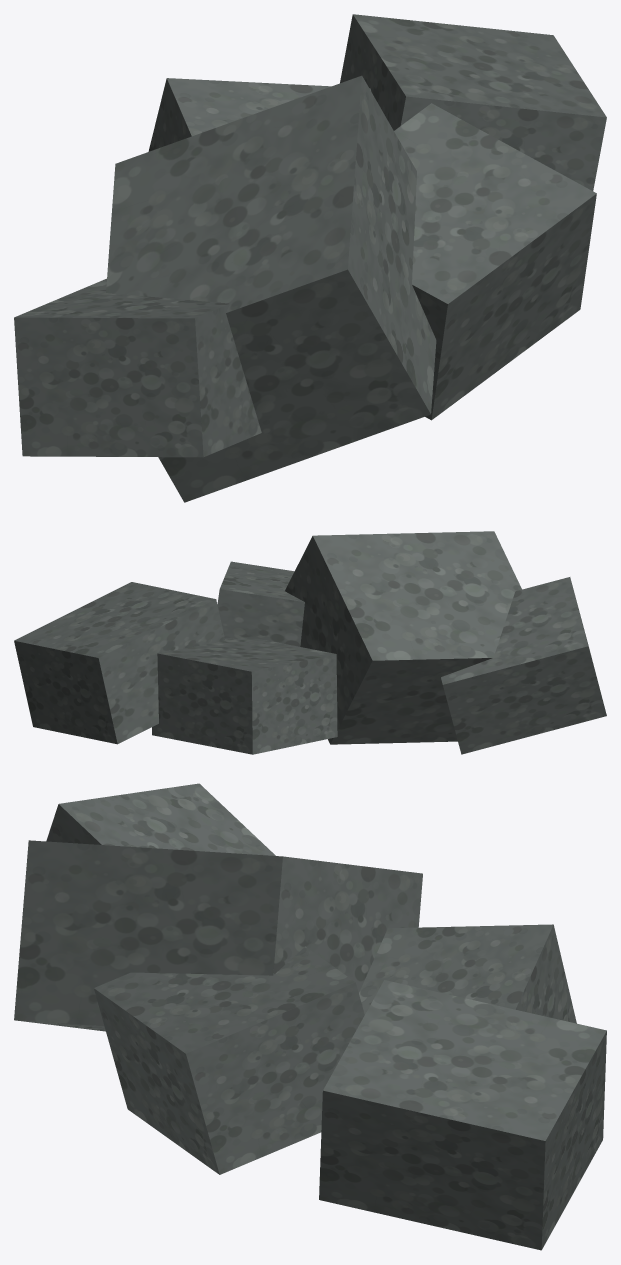
The model's file is pr-010_stone_pile__small.obj.
3 renders of one model, top to bottom at view 1: azimuth 30°, elevation 25°; view 2: azimuth 150°, elevation 25°; view 3: azimuth 270°, elevation 25°, orthographic. The views are drawn at different scales.
Parts seen in each view (by area): view 1: pr-010_stone_pile__small; view 2: pr-010_stone_pile__small; view 3: pr-010_stone_pile__small.
Part boxes in pixels (x1,y1,x2,y2): pr-010_stone_pile__small: [14, 14, 606, 502]; pr-010_stone_pile__small: [14, 531, 606, 754]; pr-010_stone_pile__small: [14, 783, 606, 1250].
Size of the model in its own units: 0.7542 by 0.3091 by 0.5674.
Materials: 1 (1 with a texture image).
